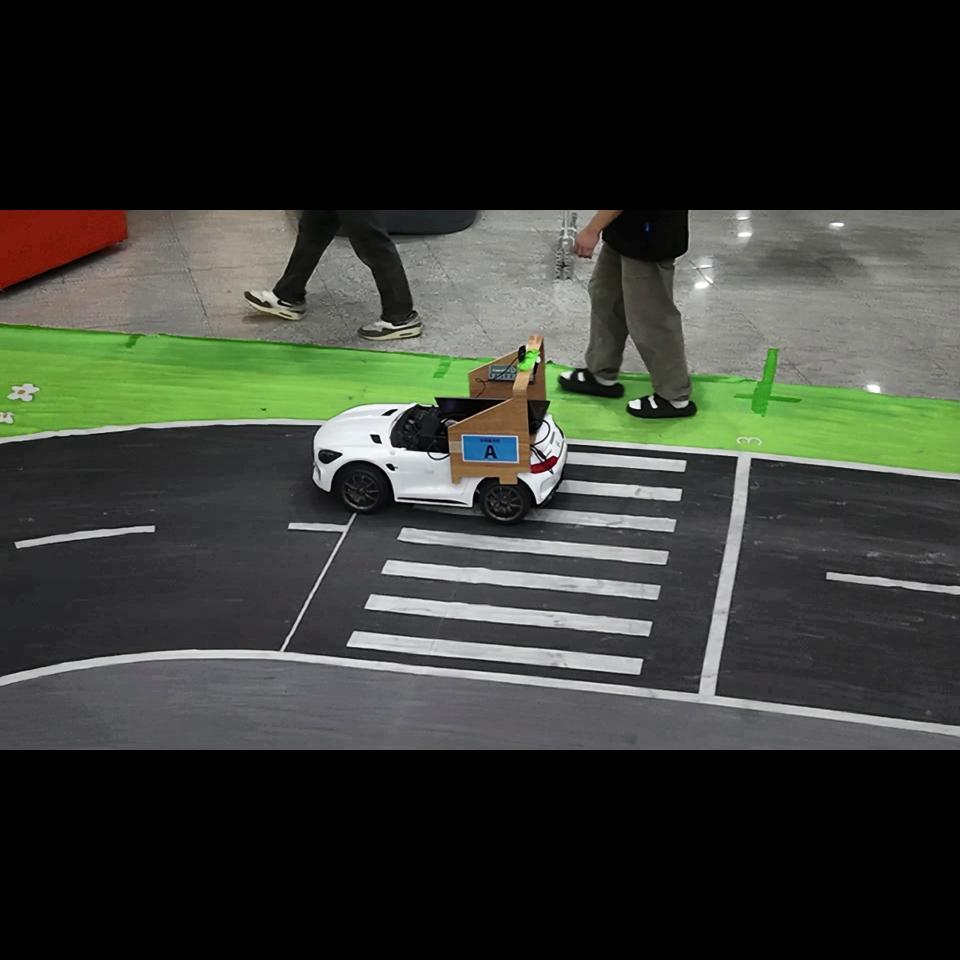broken_line: (14, 525, 156, 549), (826, 572, 960, 595), (287, 522, 347, 532)
crosswalk: (345, 452, 687, 675)
